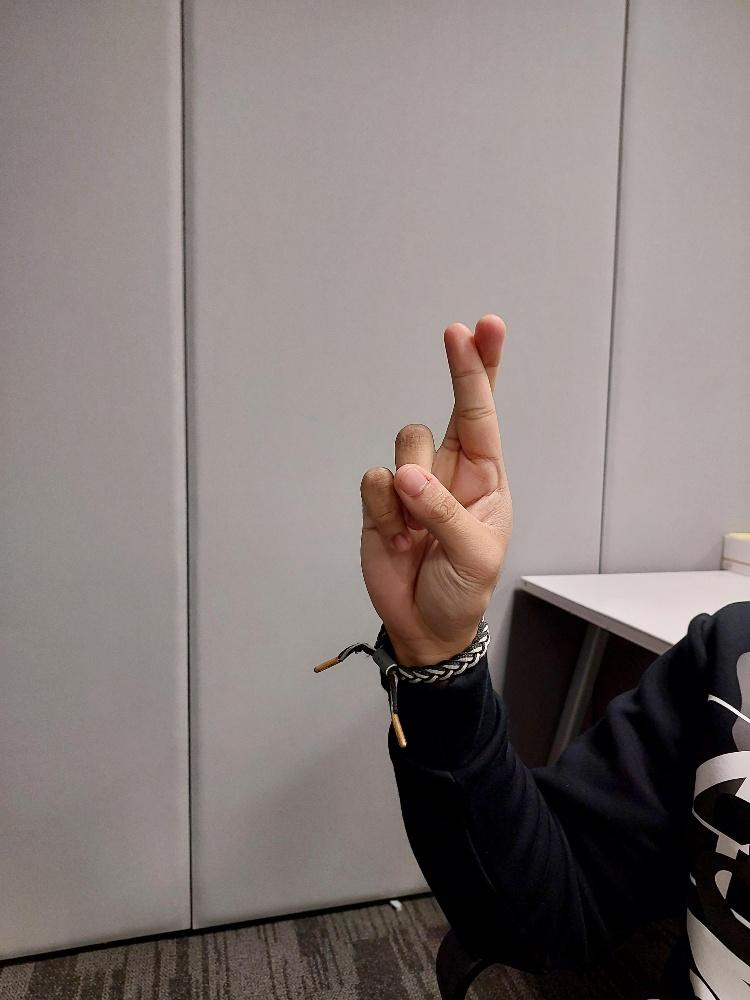r: (359, 312, 514, 637)
